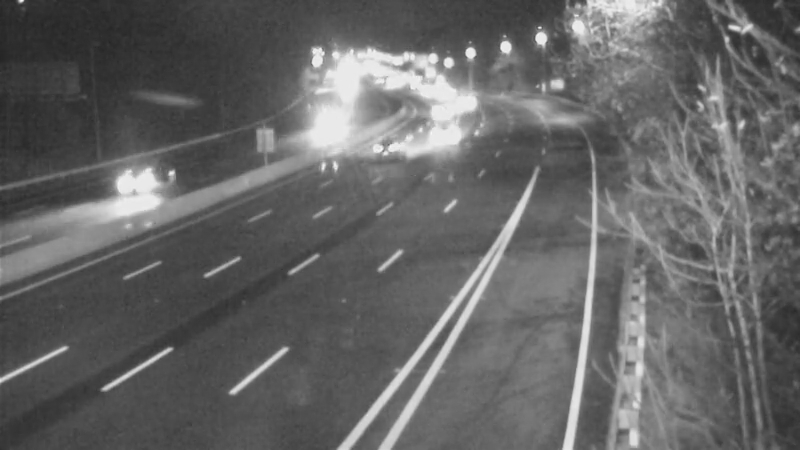vehicle: (347, 112, 427, 192), (96, 147, 176, 227), (416, 66, 466, 116), (442, 80, 492, 130), (415, 88, 465, 138), (419, 115, 469, 165), (297, 107, 347, 157)
